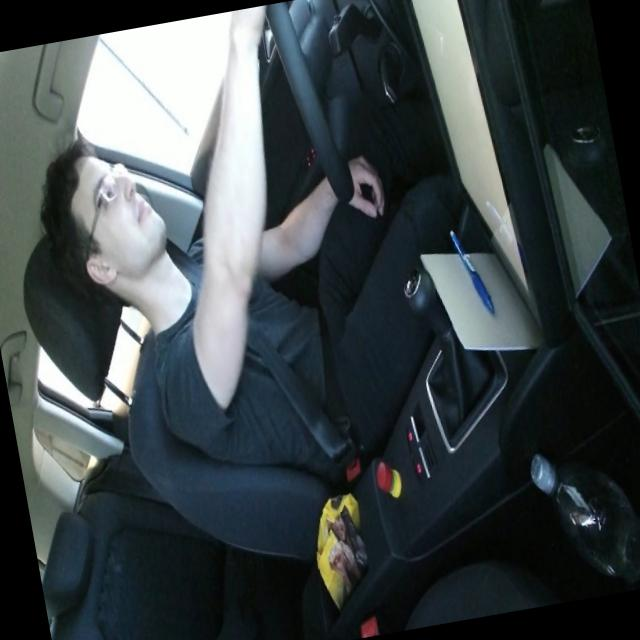pen: (447, 222, 495, 319)
